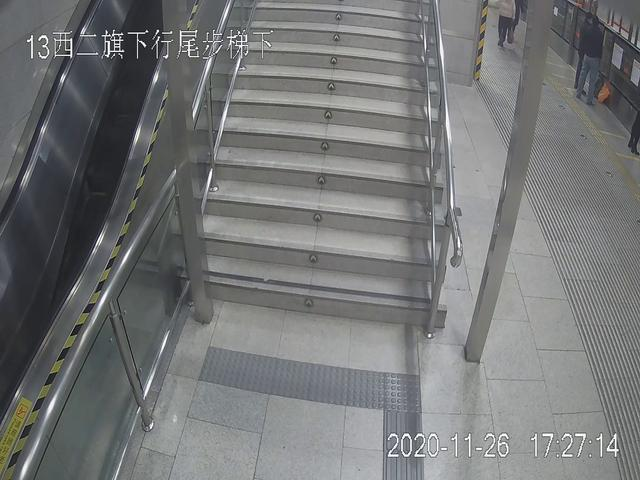person: (575, 12, 605, 105), (495, 1, 520, 47)
